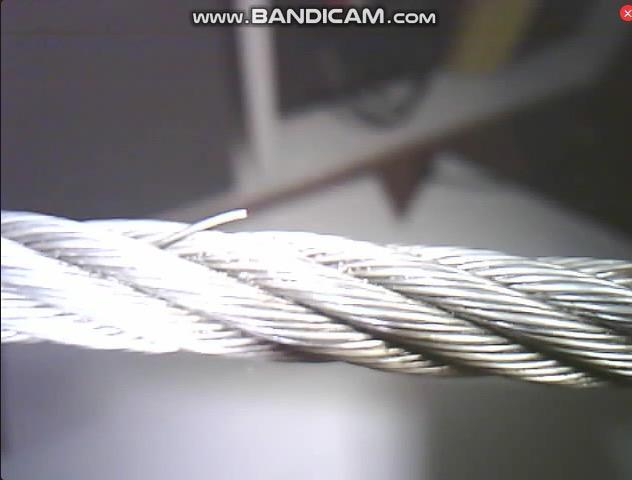break: (149, 186, 267, 258)
